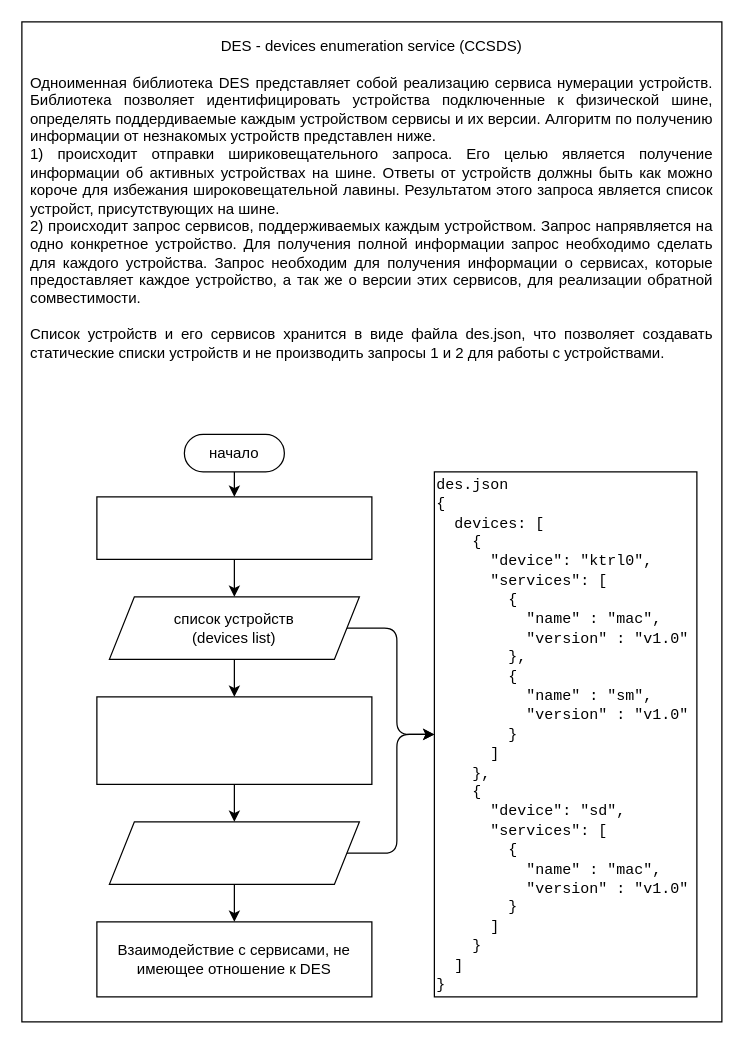
Image size: 744x1044. Some labels were removed from this diagram. The centre of each missing label's shape, as x and y in pixels:
Запрос сервисов, поддерживаемых устройством и их версий (DES services list): [234,740]
список сервисов устройства (device services list): [233,852]
Широковещательный запрос (DES broadcast): [234,527]
